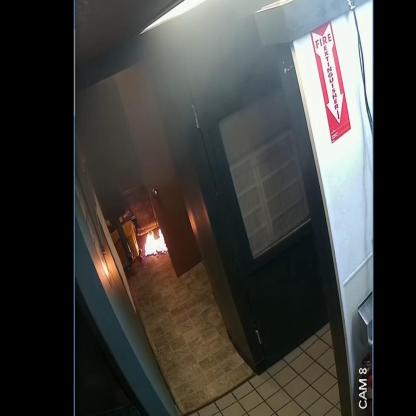fire: (144, 229, 168, 256)
